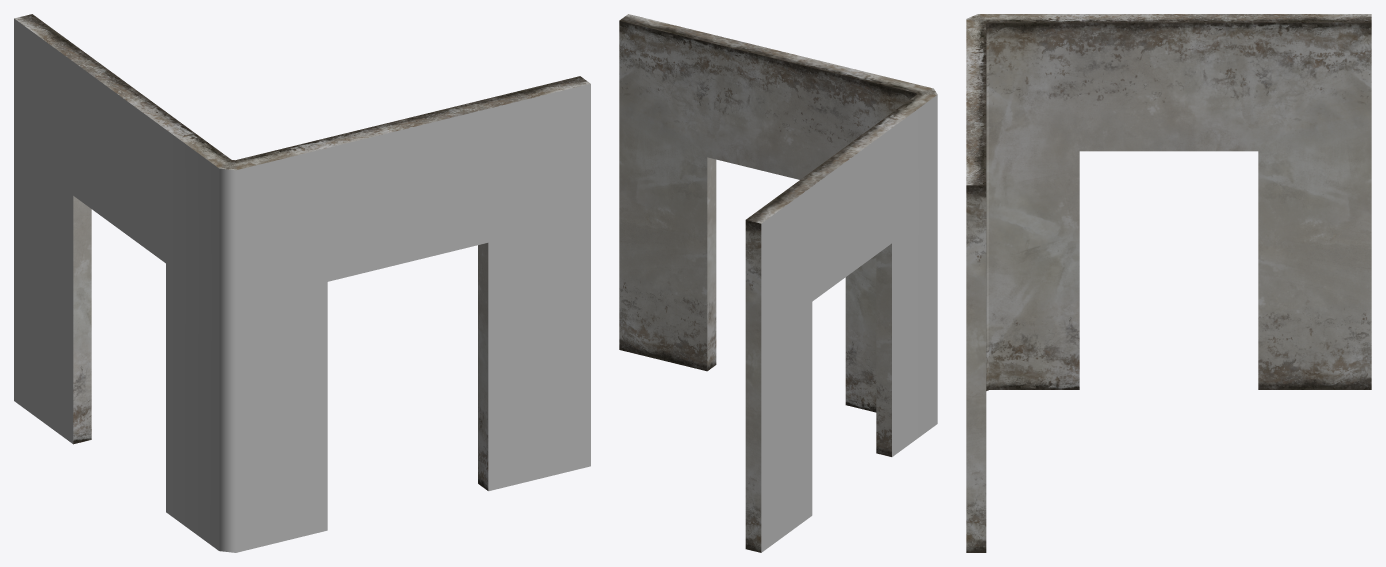
File: Wall_TallWindows.fbx
3 renders of one model, left to right at view 1: azimuth 30°, elevation 25°; view 2: azimuth 150°, elevation 25°; view 3: azimuth 270°, elevation 25°, orthographic. The views are drawn at different scales.
Visible parts, largest first — view 1: Wall_TallWindows; view 2: Wall_TallWindows; view 3: Wall_TallWindows.
Part boxes in pixels (x1,y1,x2,y2): Wall_TallWindows: [14, 14, 590, 552]; Wall_TallWindows: [619, 14, 937, 552]; Wall_TallWindows: [966, 14, 1371, 552].
Size of the model in its own units: 157 by 157 by 157.
